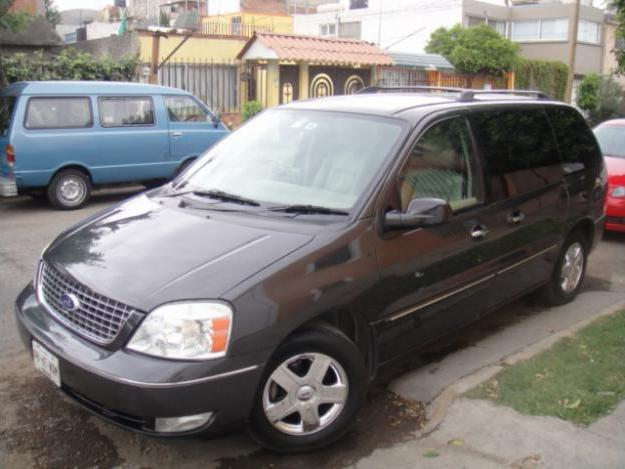Car: (2, 69, 617, 469)
